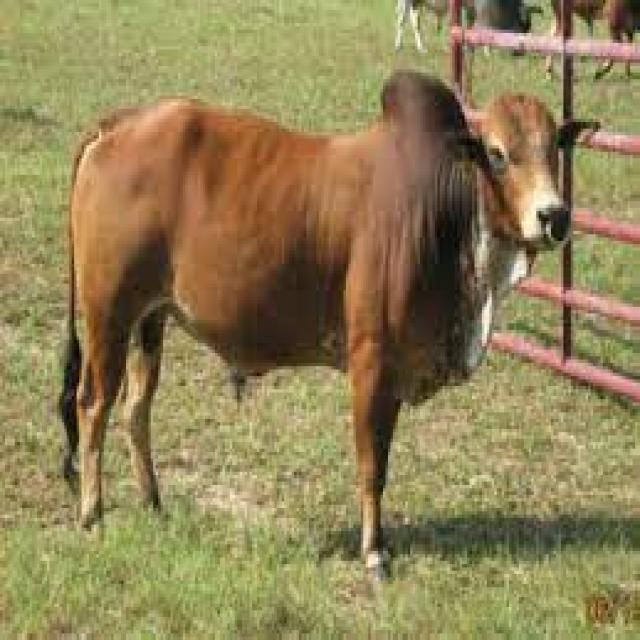cow: (60, 71, 588, 571)
